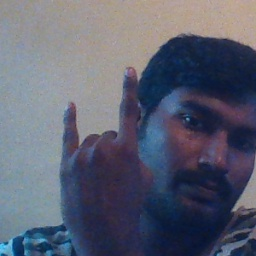V: (56, 63, 155, 234)
